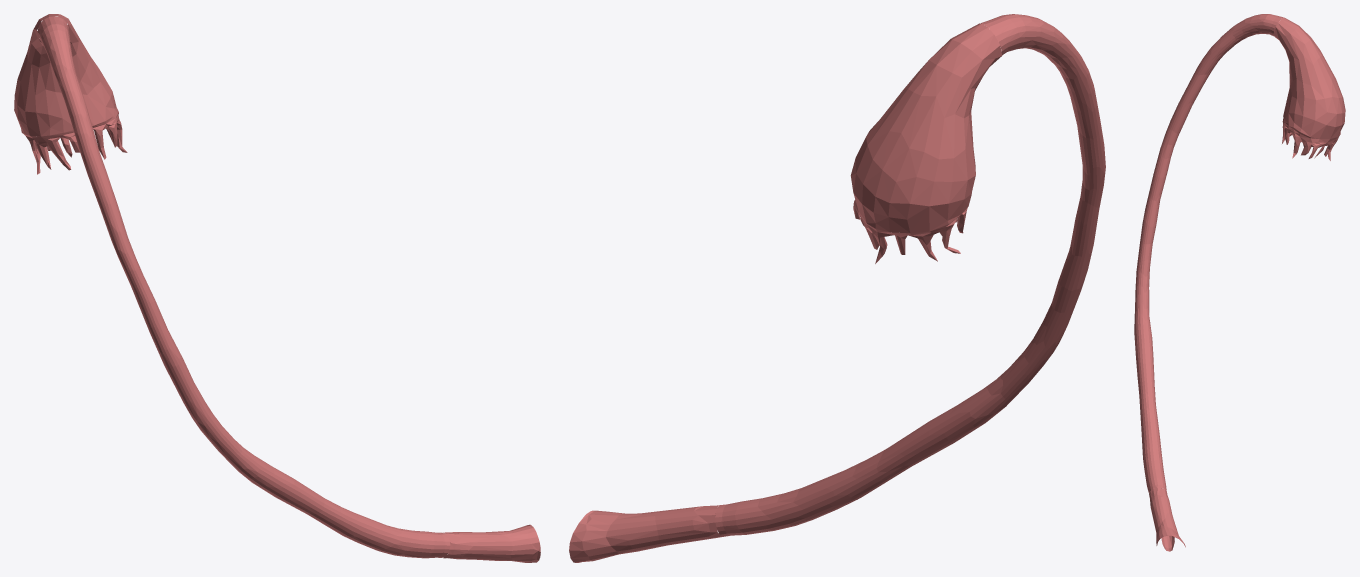
File: VH_F_Fallopian_Tube_R_0.2.glb
3 renders of one model, left to right at view 1: azimuth 30°, elevation 25°; view 2: azimuth 150°, elevation 25°; view 3: azimuth 270°, elevation 25°, orthographic. The views are drawn at different scales.
Parts seen in each view (by area): view 1: VH_F_ampulla_of_uterine_tube_R, VH_F_uterine_tube_infundibulum_R, VH_F_isthmus_of_fallopian_tube_R, VH_F_fibria_of_uterine_tube_R; view 2: VH_F_ampulla_of_uterine_tube_R, VH_F_uterine_tube_infundibulum_R, VH_F_isthmus_of_fallopian_tube_R, VH_F_fibria_of_uterine_tube_R; view 3: VH_F_ampulla_of_uterine_tube_R, VH_F_uterine_tube_infundibulum_R, VH_F_isthmus_of_fallopian_tube_R, VH_F_fibria_of_uterine_tube_R.
Boxes of the visible parts, x1=… form: VH_F_ampulla_of_uterine_tube_R: x1=37, y1=16, x2=450, y2=558; VH_F_uterine_tube_infundibulum_R: x1=14, y1=14, x2=118, y2=136; VH_F_isthmus_of_fallopian_tube_R: x1=443, y1=524, x2=540, y2=562; VH_F_fibria_of_uterine_tube_R: x1=22, y1=113, x2=127, y2=174; VH_F_ampulla_of_uterine_tube_R: x1=715, y1=14, x2=1105, y2=536; VH_F_uterine_tube_infundibulum_R: x1=850, y1=23, x2=1002, y2=233; VH_F_isthmus_of_fallopian_tube_R: x1=569, y1=505, x2=723, y2=562; VH_F_fibria_of_uterine_tube_R: x1=853, y1=199, x2=967, y2=263; VH_F_ampulla_of_uterine_tube_R: x1=1134, y1=14, x2=1283, y2=494; VH_F_uterine_tube_infundibulum_R: x1=1273, y1=17, x2=1345, y2=138; VH_F_isthmus_of_fallopian_tube_R: x1=1149, y1=487, x2=1185, y2=551; VH_F_fibria_of_uterine_tube_R: x1=1282, y1=117, x2=1339, y2=160.
Bounding box in the file's own units: 0.0344 × 0.0446 × 0.0209.
